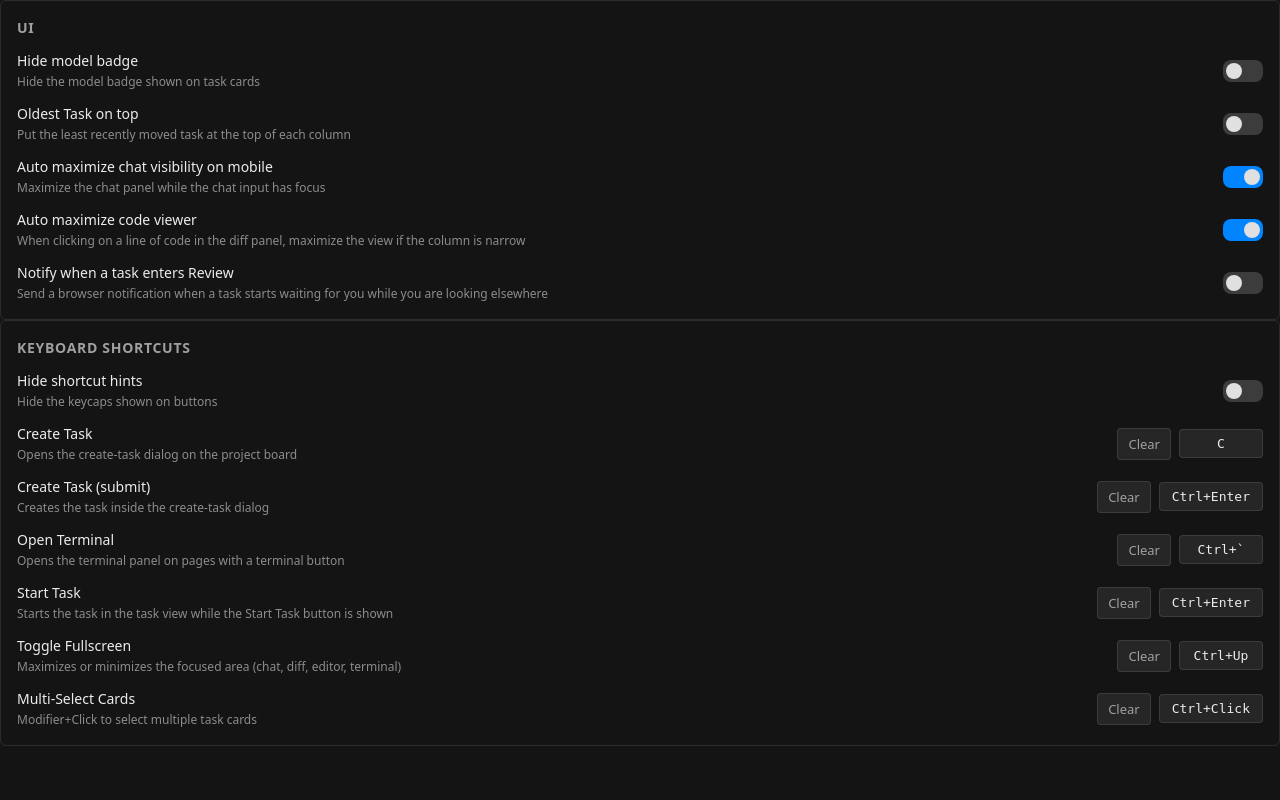
Test: PreferencesTab notify-on-review toggle › names what to do while the browser refuses, and only while enabled
This screenshot has width=1280, height=800.
Click the switch named "Notify when a task enters Review": (1243,282) top-left (1223, 272), bottom-right (1263, 294)
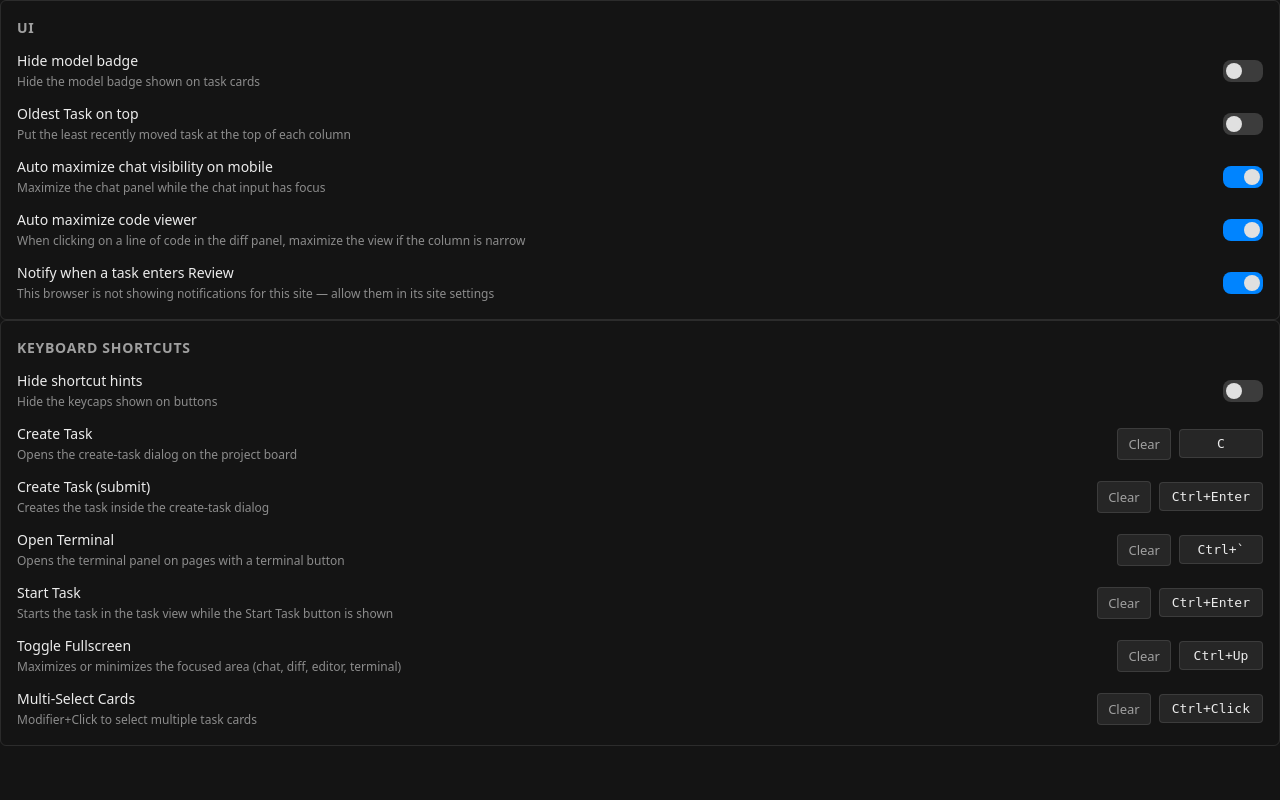
Check: the text with id "notify-on-review-desc" shows "This browser is not showing notifications for this site — allow them in its site settings", box top-left (17, 285), bottom-right (494, 302)
